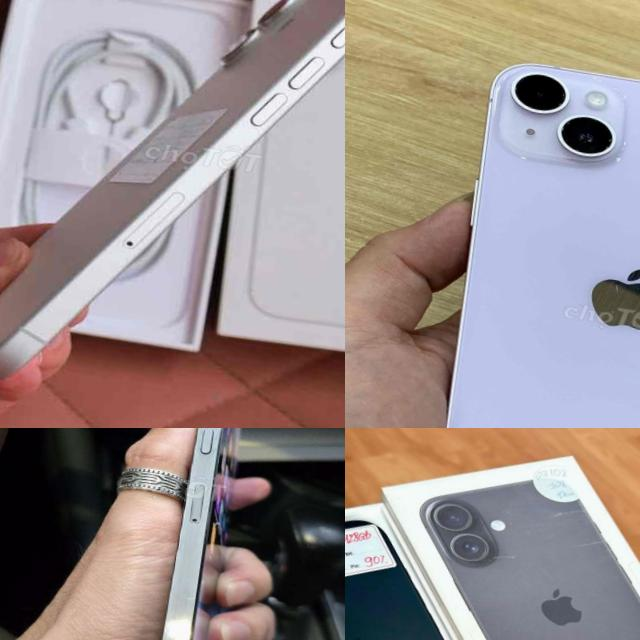gen_14: (419, 48, 640, 428), (134, 428, 281, 640)
gen_16: (0, 0, 345, 428)
